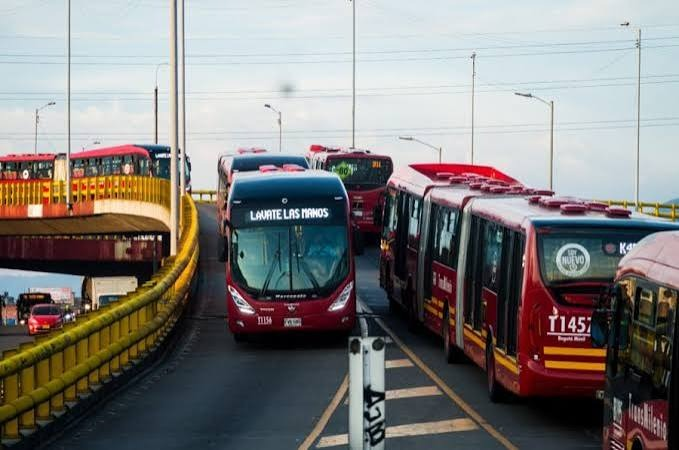car: (384, 165, 650, 412), (383, 167, 645, 417), (1, 150, 191, 375), (213, 164, 359, 340), (2, 141, 182, 280), (590, 222, 679, 450), (8, 144, 175, 230), (392, 159, 532, 237), (315, 149, 396, 234), (406, 160, 524, 213), (411, 160, 525, 193), (223, 149, 303, 185)
